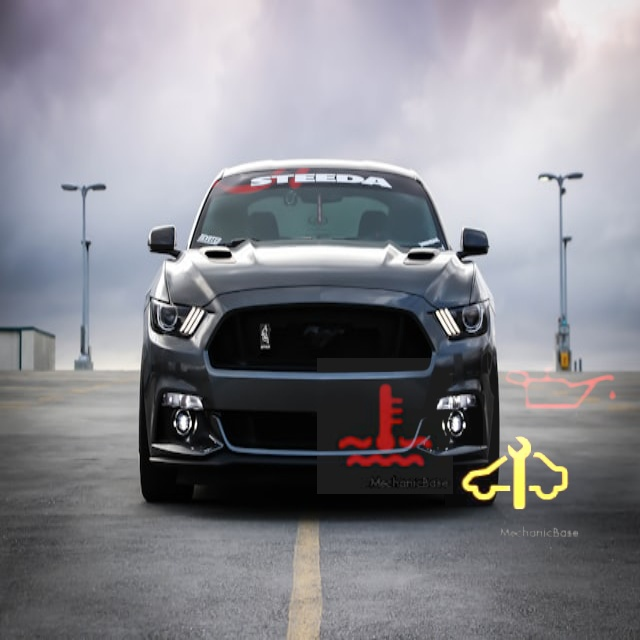symbol: (131, 33, 347, 249), (483, 312, 635, 464), (445, 405, 584, 544), (317, 358, 453, 494)
